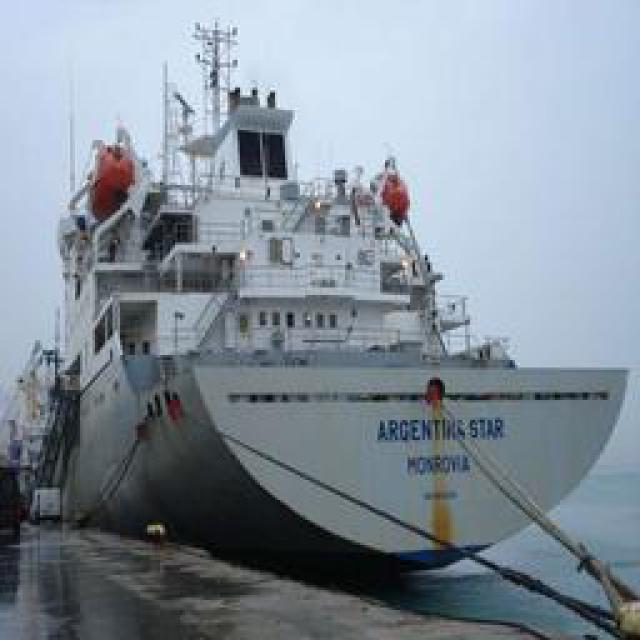Ship: (55, 80, 625, 575)
